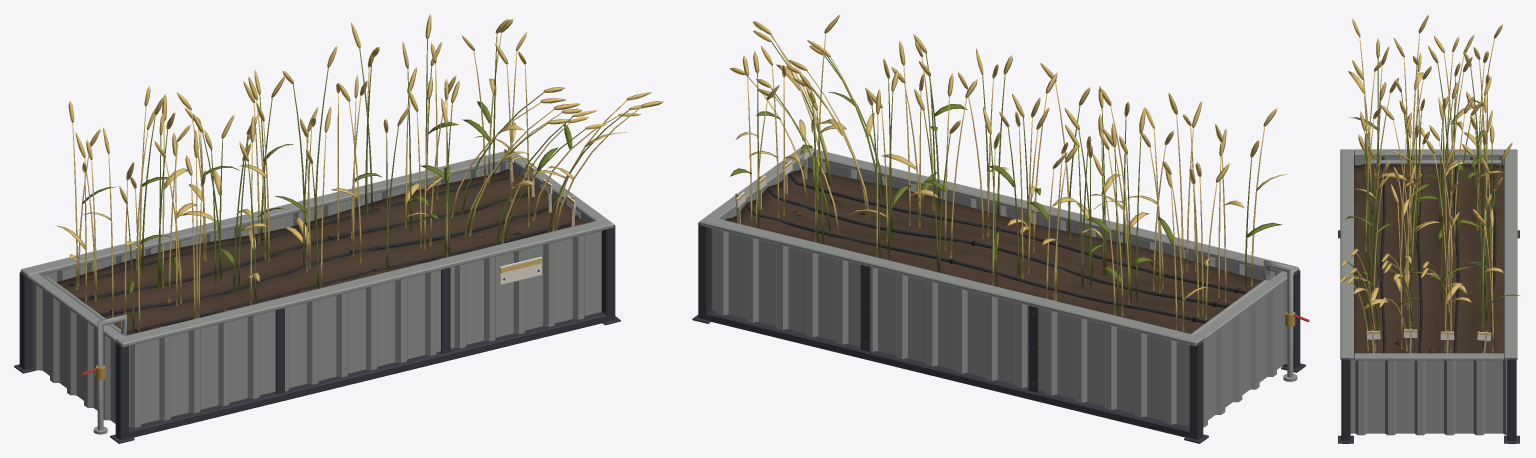
File: deco_farm_bed_grain.fbx
3 views of the same model, side by side, from view 1: azimuth 30°, elevation 25°; view 2: azimuth 150°, elevation 25°; view 3: azimuth 270°, elevation 25° (orthographic). The views are drawn at different scales.
Visible parts, largest first — view 1: FarmBed_Grain_Frame, FarmBed_Grain_Soil, FarmBed_Grain_Stalks, FarmBed_Grain_Heads, FarmBed_Grain_Irrigation, FarmBed_Grain_Blades, FarmBed_Grain_Tags; view 2: FarmBed_Grain_Frame, FarmBed_Grain_Soil, FarmBed_Grain_Stalks, FarmBed_Grain_Heads, FarmBed_Grain_Irrigation, FarmBed_Grain_Blades, FarmBed_Grain_Tags; view 3: FarmBed_Grain_Frame, FarmBed_Grain_Soil, FarmBed_Grain_Stalks, FarmBed_Grain_Heads, FarmBed_Grain_Blades, FarmBed_Grain_Irrigation, FarmBed_Grain_Tags.
Part boxes in pixels (left/top/right/bottom): FarmBed_Grain_Frame: left=14, top=151, right=620, bottom=443; FarmBed_Grain_Soil: left=56, top=169, right=587, bottom=335; FarmBed_Grain_Stalks: left=72, top=33, right=641, bottom=333; FarmBed_Grain_Heads: left=68, top=14, right=663, bottom=203; FarmBed_Grain_Irrigation: left=45, top=169, right=578, bottom=434; FarmBed_Grain_Blades: left=56, top=78, right=626, bottom=294; FarmBed_Grain_Tags: left=499, top=148, right=575, bottom=284; FarmBed_Grain_Frame: left=692, top=147, right=1305, bottom=443; FarmBed_Grain_Soil: left=725, top=166, right=1262, bottom=333; FarmBed_Grain_Stalks: left=747, top=33, right=1265, bottom=331; FarmBed_Grain_Heads: left=730, top=14, right=1276, bottom=187; FarmBed_Grain_Irrigation: left=745, top=173, right=1309, bottom=381; FarmBed_Grain_Blades: left=730, top=64, right=1287, bottom=301; FarmBed_Grain_Tags: left=735, top=145, right=812, bottom=224; FarmBed_Grain_Frame: left=1338, top=149, right=1519, bottom=443; FarmBed_Grain_Soil: left=1354, top=158, right=1503, bottom=353; FarmBed_Grain_Stalks: left=1347, top=34, right=1501, bottom=352; FarmBed_Grain_Heads: left=1340, top=14, right=1512, bottom=307; FarmBed_Grain_Blades: left=1344, top=71, right=1519, bottom=309; FarmBed_Grain_Irrigation: left=1364, top=134, right=1500, bottom=353; FarmBed_Grain_Tags: left=1366, top=328, right=1491, bottom=353.
Bounding box in the file's own units: 460 × 211 × 150.
